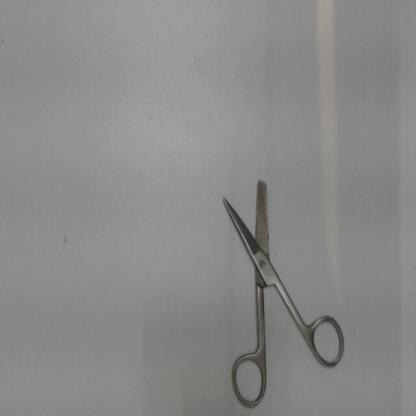Dressing Scissors: (216, 169, 351, 413)
